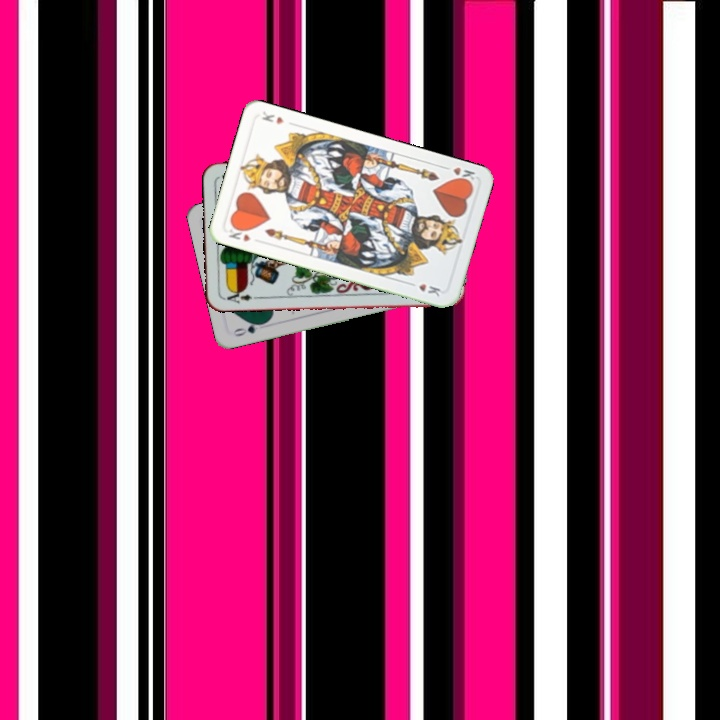EA: (220, 286, 260, 306)
GO: (229, 318, 268, 339)
HK: (438, 162, 478, 187), (225, 221, 253, 244)
